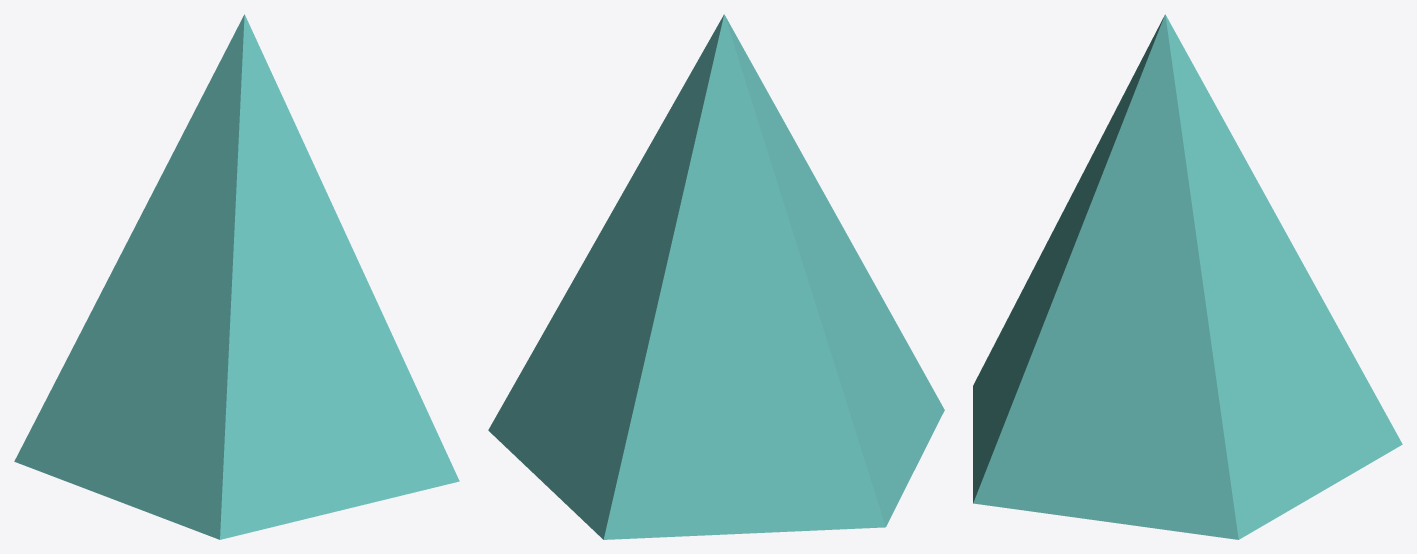
The model's file is IceShard.fbx.
3 views of the same model, side by side, from view 1: azimuth 30°, elevation 25°; view 2: azimuth 150°, elevation 25°; view 3: azimuth 270°, elevation 25° (orthographic). The views are drawn at different scales.
Visible parts, largest first — view 1: IceShard; view 2: IceShard; view 3: IceShard.
Part boxes in pixels (x1,y1,x2,y2): IceShard: [14, 14, 459, 539]; IceShard: [488, 14, 944, 539]; IceShard: [973, 14, 1402, 539].
Bounding box in the file's own units: 190 × 200 × 181.
